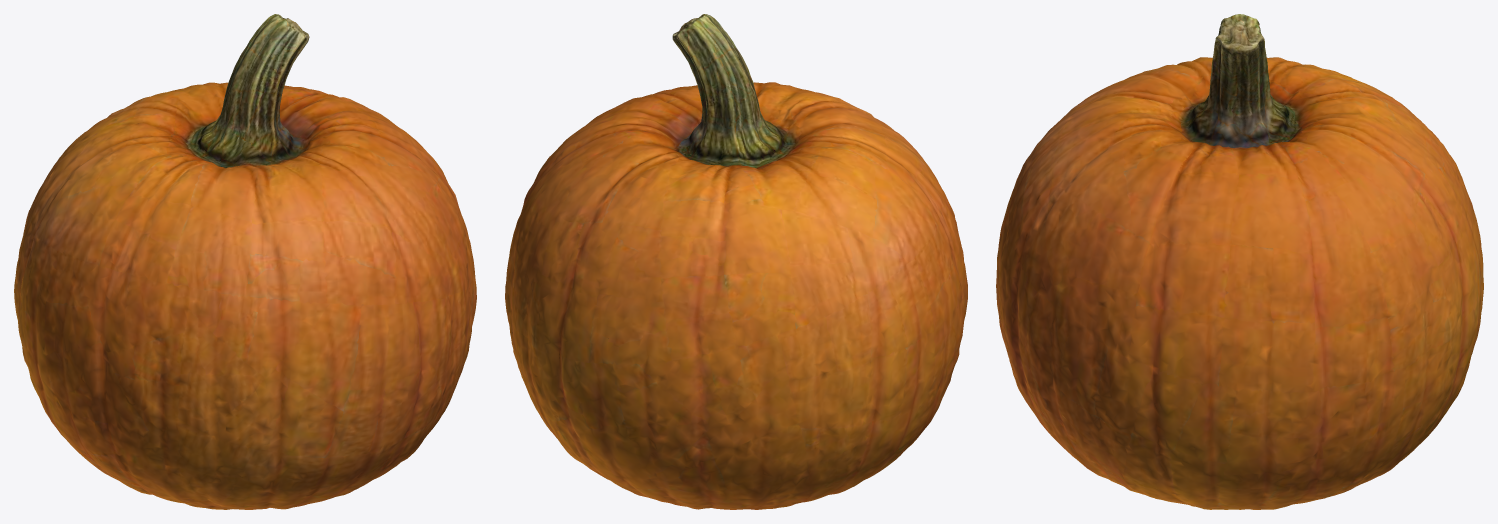
3 views of the same model, side by side, from view 1: azimuth 30°, elevation 25°; view 2: azimuth 150°, elevation 25°; view 3: azimuth 270°, elevation 25° (orthographic). The views are drawn at different scales.
Size of the model in its own units: 1.83 by 1.9 by 1.83.
1 material, 1 textured.
